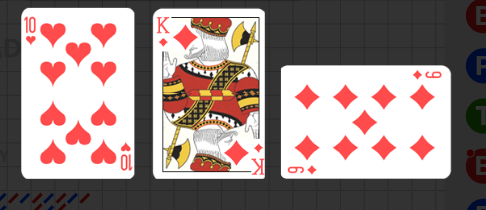10H: (119, 140, 133, 172)
9D: (286, 164, 319, 176), (411, 69, 443, 81)
